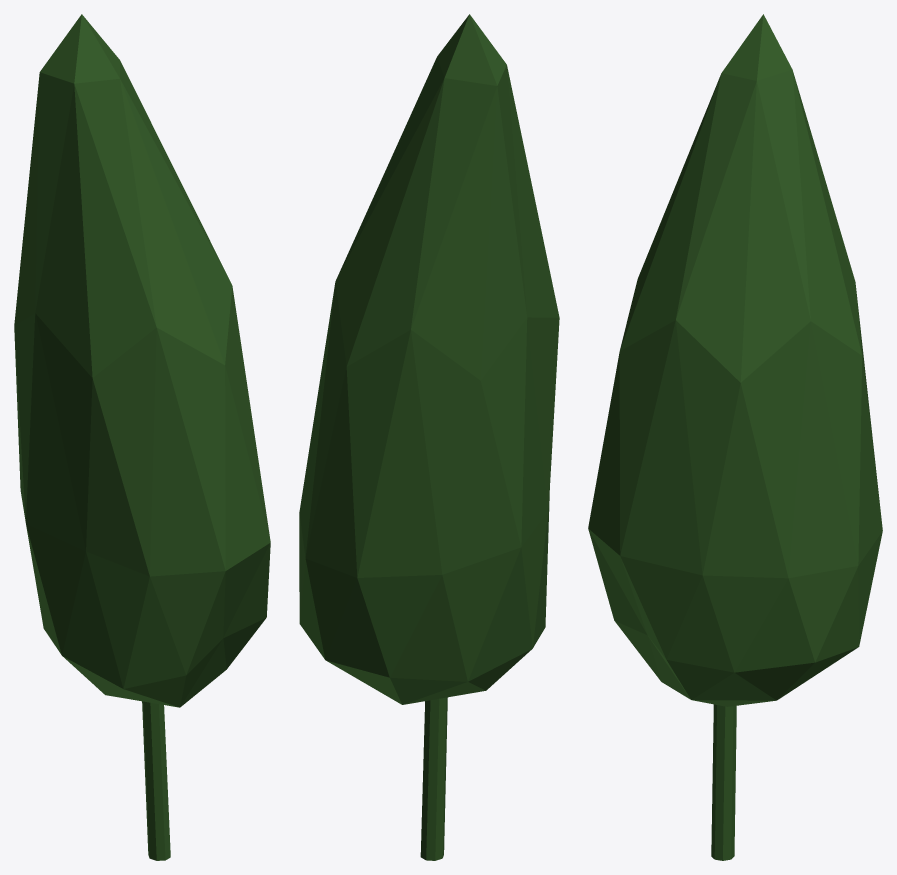
The model's file is Poplar2.FBX.
3 views of the same model, side by side, from view 1: azimuth 30°, elevation 25°; view 2: azimuth 150°, elevation 25°; view 3: azimuth 270°, elevation 25° (orthographic). The views are drawn at different scales.
Visible parts, largest first — view 1: Poplar2; view 2: Poplar2; view 3: Poplar2.
Part boxes in pixels (left/top/right/bottom): Poplar2: left=14, top=14, right=270, bottom=860; Poplar2: left=299, top=14, right=559, bottom=860; Poplar2: left=588, top=14, right=882, bottom=860.
Size of what is drawn, in the model's own units: 206 by 265 by 809.
